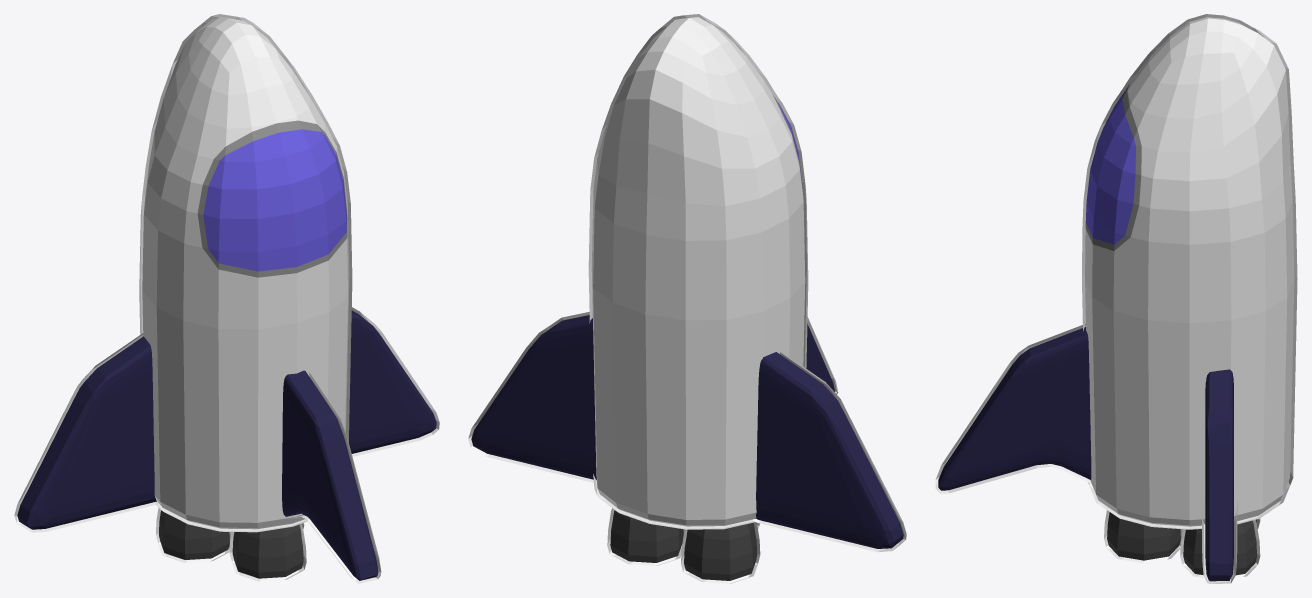
The model's file is nasa3-B460fwia.glb.
The picture shows the model from 3 angles, left to right: view 1: azimuth 30°, elevation 25°; view 2: azimuth 150°, elevation 25°; view 3: azimuth 270°, elevation 25°; orthographic projection. The views are drawn at different scales.
Visible parts, largest first — view 1: Cube.007, Cube.008; view 2: Cube.007, Cube.008; view 3: Cube.007, Cube.008.
Part boxes in pixels (<box>): Cube.007: <box>17,17,436,580</box>; Cube.008: <box>14,14,439,583</box>; Cube.007: <box>471,17,903,580</box>; Cube.008: <box>468,14,906,583</box>; Cube.007: <box>938,17,1294,581</box>; Cube.008: <box>935,14,1297,583</box>.
Size of the model in its own units: 4.26 by 5.16 by 3.17.
